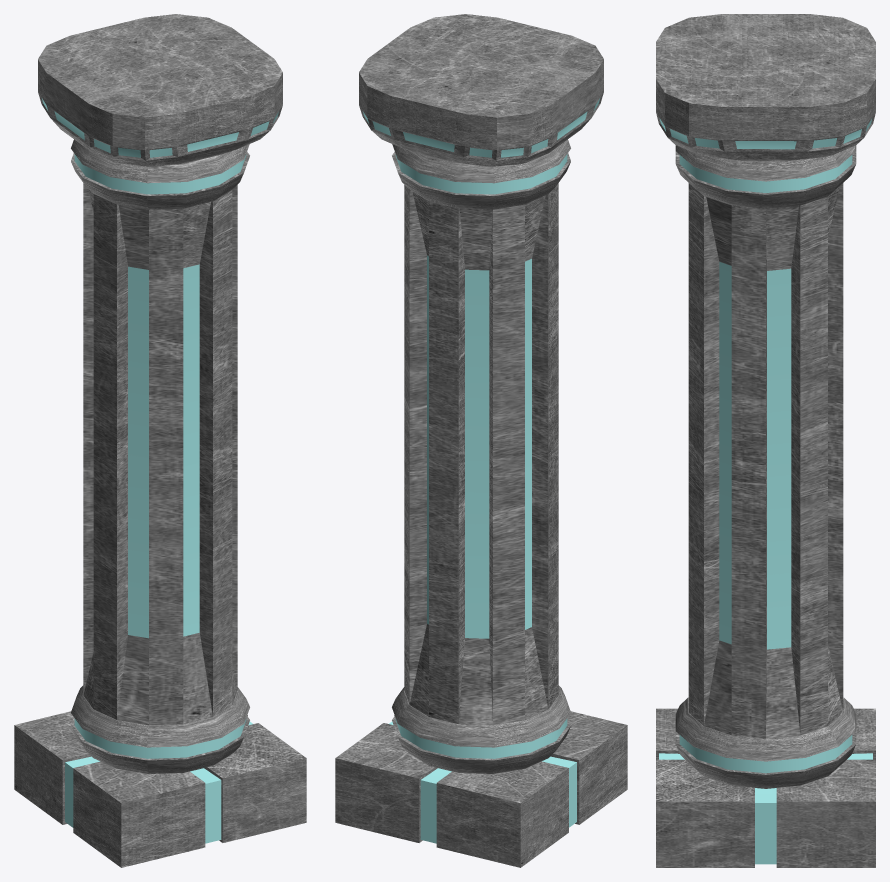
The model's file is Pillar.fbx.
3 renders of one model, left to right at view 1: azimuth 30°, elevation 25°; view 2: azimuth 150°, elevation 25°; view 3: azimuth 270°, elevation 25°, orthographic. The views are drawn at different scales.
Parts seen in each view (by area): view 1: pCylinder4; view 2: pCylinder4; view 3: pCylinder4.
Part boxes in pixels (x1=…): pCylinder4: x1=14, y1=14, x2=306, y2=867; pCylinder4: x1=335, y1=14, x2=627, y2=867; pCylinder4: x1=656, y1=14, x2=875, y2=867.
Size of the model in its own units: 13.28 by 50.71 by 13.28.
